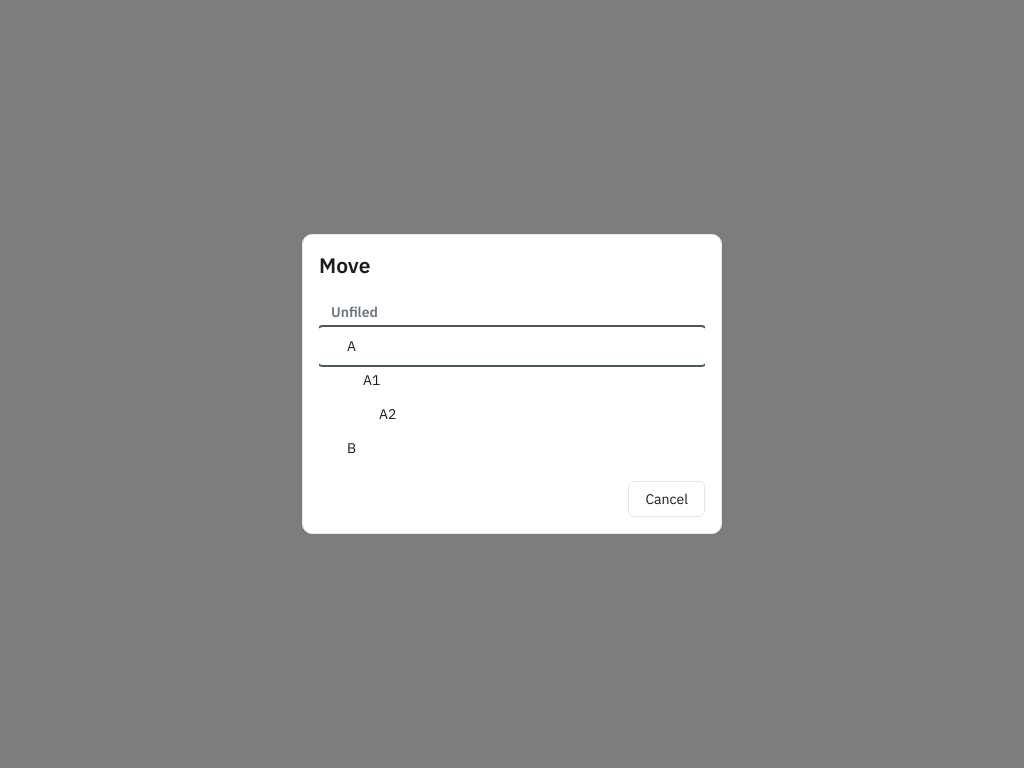
it: MoveToFolderDialog › shows a refused move and stays open
The image size is (1024, 768).
What coordinates should you click on to do the following:
click the button "B"
I would click on:
 (352, 448)
Its box is [319,431,705,465].
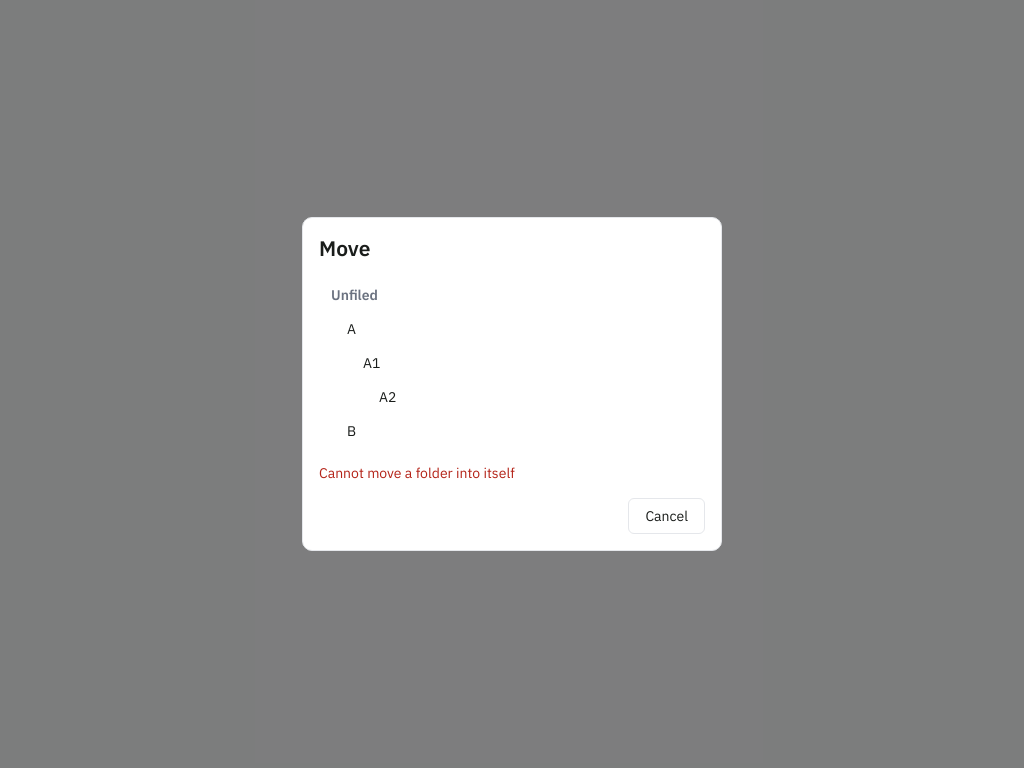
expect the message reads "Cannot move a folder into itself": met, box [319,464,515,482]
